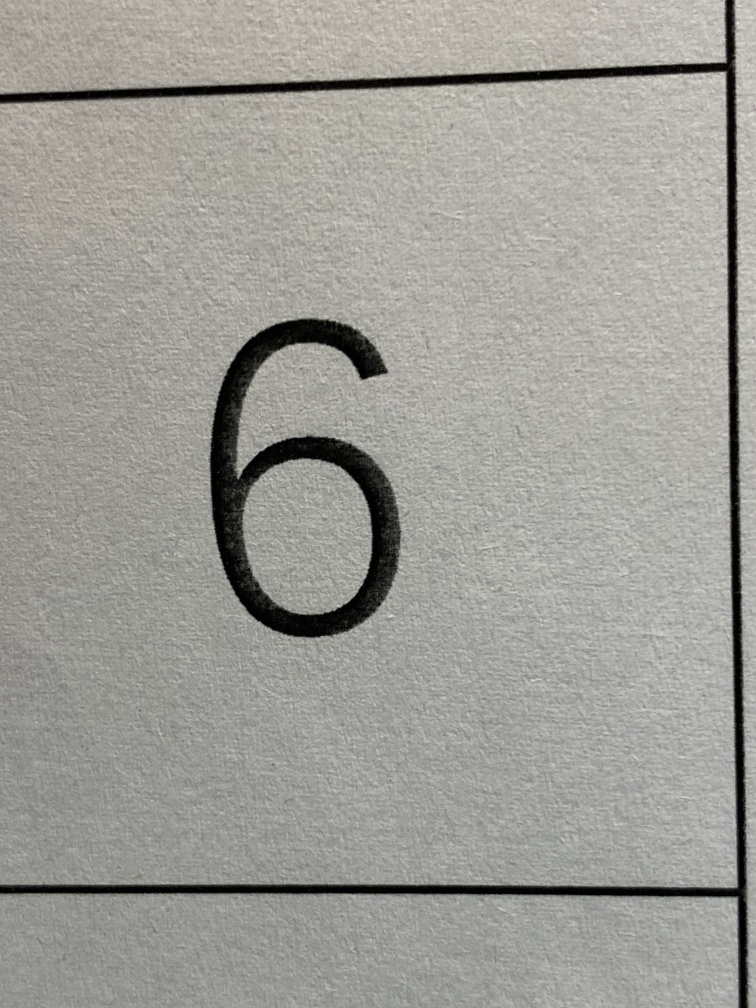six: (142, 270, 459, 675)
